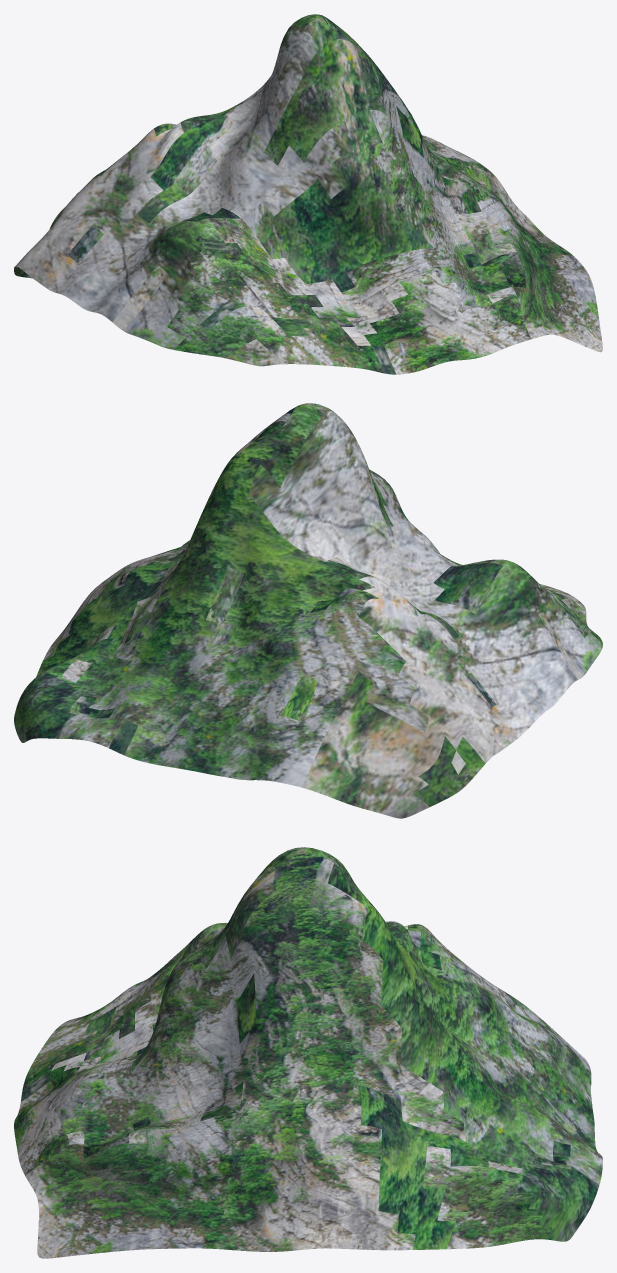
The model's file is mountain.glb.
3 views of the same model, one above another, from view 1: azimuth 30°, elevation 25°; view 2: azimuth 150°, elevation 25°; view 3: azimuth 270°, elevation 25° (orthographic). The views are drawn at different scales.
Visible parts, largest first — view 1: Plane; view 2: Plane; view 3: Plane.
Boxes of the visible parts, x1=… form: Plane: x1=14, y1=14, x2=602, y2=374; Plane: x1=14, y1=403, x2=602, y2=818; Plane: x1=14, y1=847, x2=602, y2=1258.
Bounding box in the file's own units: 2.01 × 1.21 × 2.03.
1 material, 1 textured.
